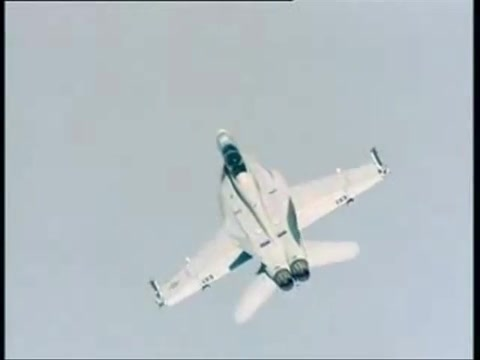aeroplane: (149, 129, 392, 325)
